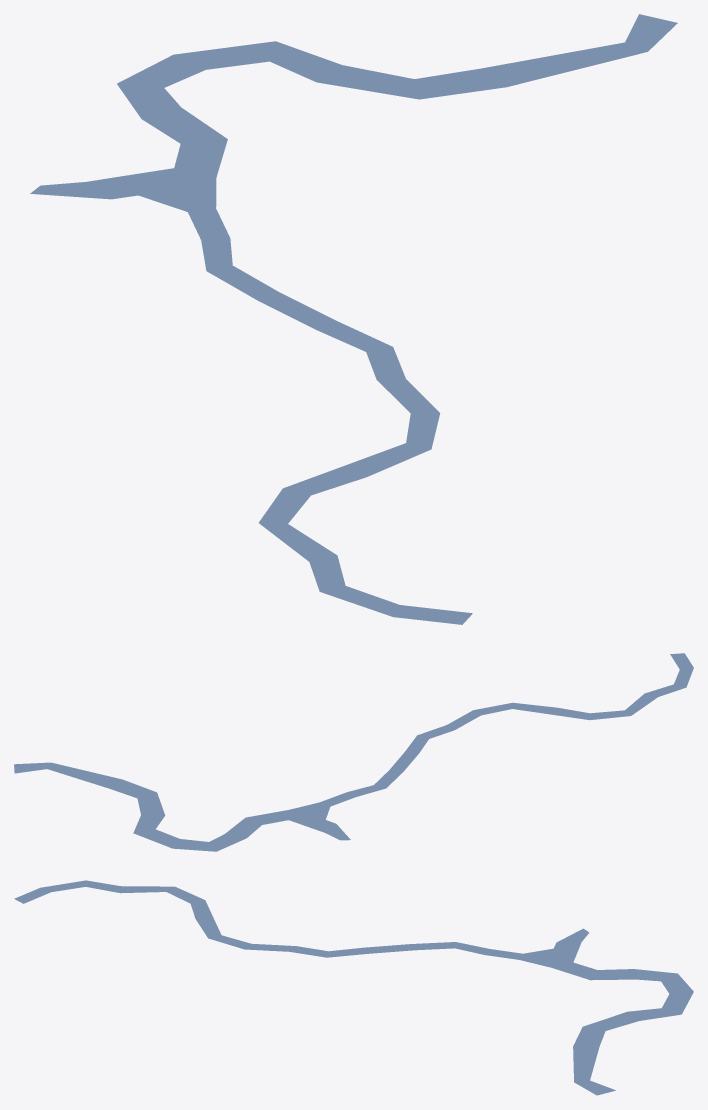
Rendered from River.fbx.
3 views of the same model, one above another, from view 1: azimuth 30°, elevation 25°; view 2: azimuth 150°, elevation 25°; view 3: azimuth 270°, elevation 25° (orthographic). The views are drawn at different scales.
Parts seen in each view (by area): view 1: River; view 2: River; view 3: River.
Part boxes in pixels (x1,y1,x2,y2): River: [30, 14, 677, 624]; River: [14, 653, 693, 851]; River: [14, 880, 693, 1095].
Bounding box in the file's own units: 39.12 × 4.77e-08 × 52.23.
